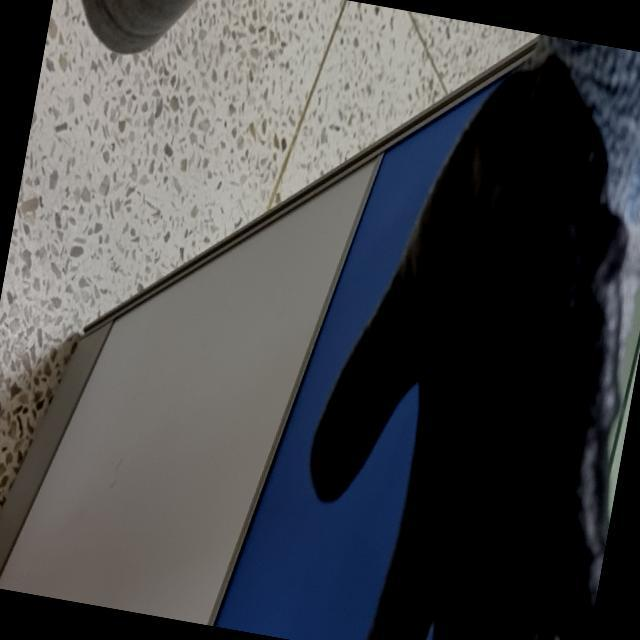Gloves: (305, 26, 640, 640)
